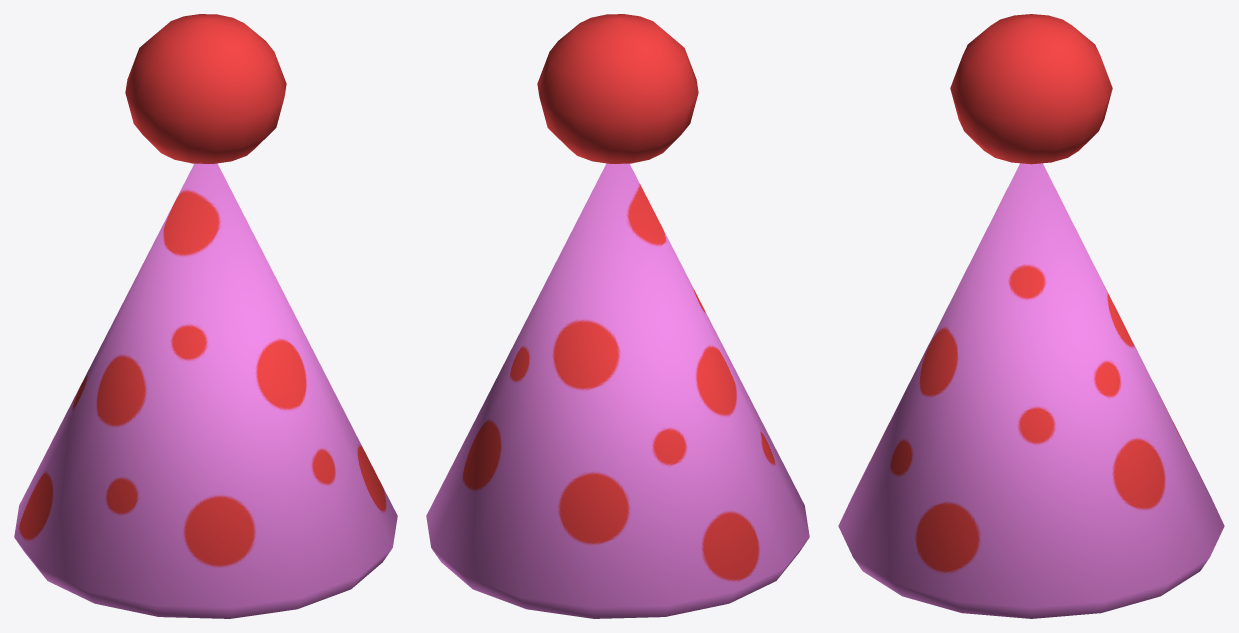
The model's file is hat_04.fbx.
3 renders of one model, left to right at view 1: azimuth 30°, elevation 25°; view 2: azimuth 150°, elevation 25°; view 3: azimuth 270°, elevation 25°, orthographic.
Visible parts, largest first — view 1: Circle.002; view 2: Circle.002; view 3: Circle.002.
Part boxes in pixels (box(x1,y1,x2,y2)): Circle.002: box(14, 14, 397, 618); Circle.002: box(426, 14, 809, 618); Circle.002: box(838, 14, 1224, 618).
Bounding box in the file's own units: 82.89 × 124 × 82.89.
